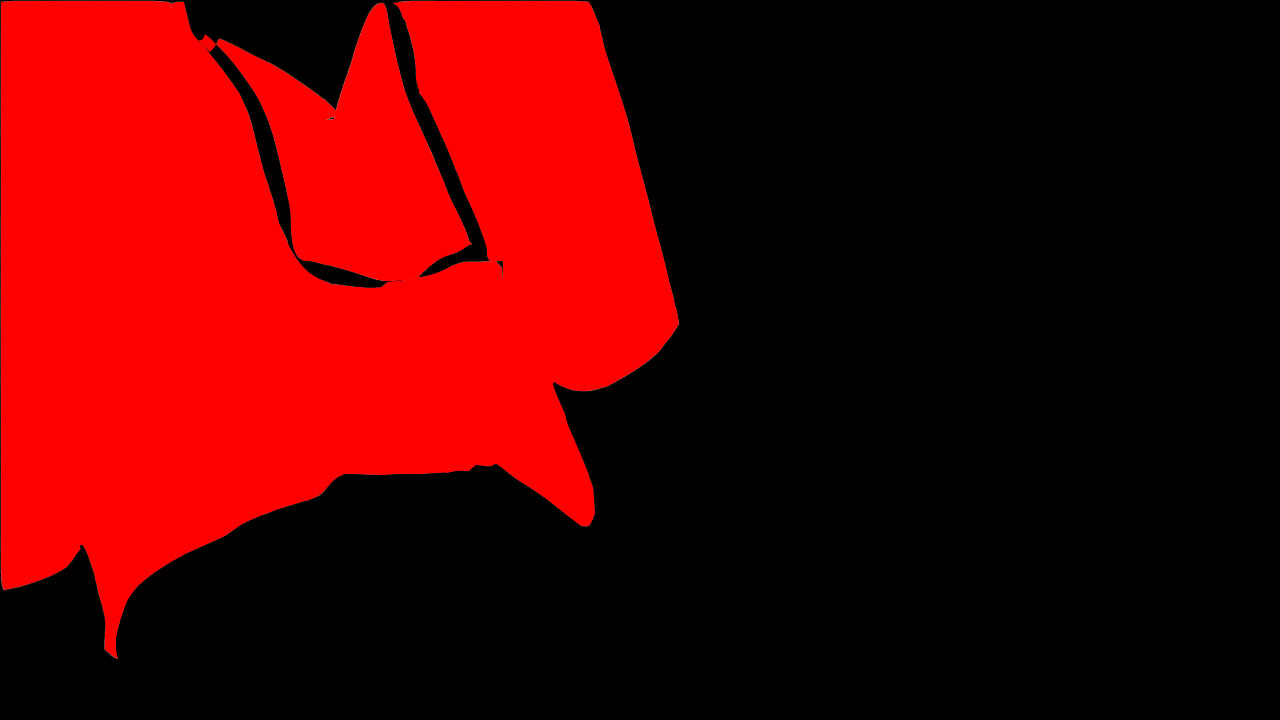uniforme_ifmt: (1, 3, 681, 589)
